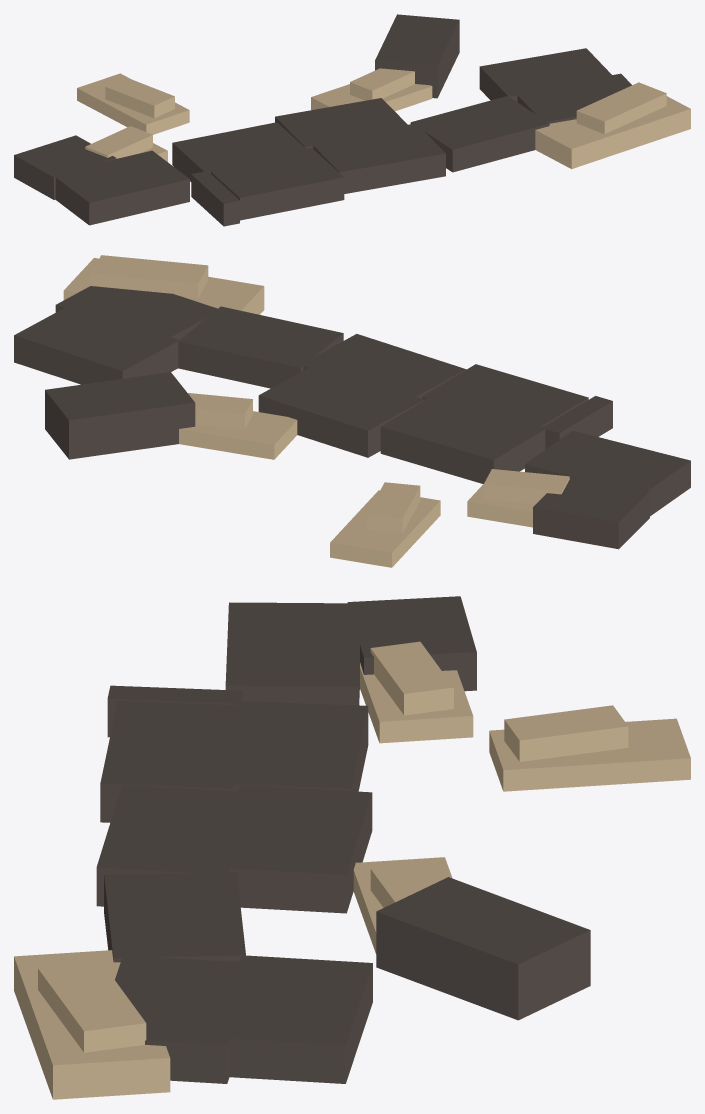
The model's file is SM_PretilEsquinaPaso_v2_Irregular_e3_Brecha_LOD0.fbx.
The picture shows the model from 3 angles, top to bottom: view 1: azimuth 30°, elevation 25°; view 2: azimuth 150°, elevation 25°; view 3: azimuth 270°, elevation 25°; orthographic projection. The views are drawn at different scales.
Parts seen in each view (by area): view 1: SM_pretil_azotea_v51_LOD0; view 2: SM_pretil_azotea_v51_LOD0; view 3: SM_pretil_azotea_v51_LOD0.
Part boxes in pixels (x1=…): SM_pretil_azotea_v51_LOD0: x1=14, y1=14, x2=690, y2=226; SM_pretil_azotea_v51_LOD0: x1=14, y1=255, x2=690, y2=567; SM_pretil_azotea_v51_LOD0: x1=14, y1=596, x2=690, y2=1099.
Bounding box in the file's own units: 4.64 × 0.26 × 2.85.
